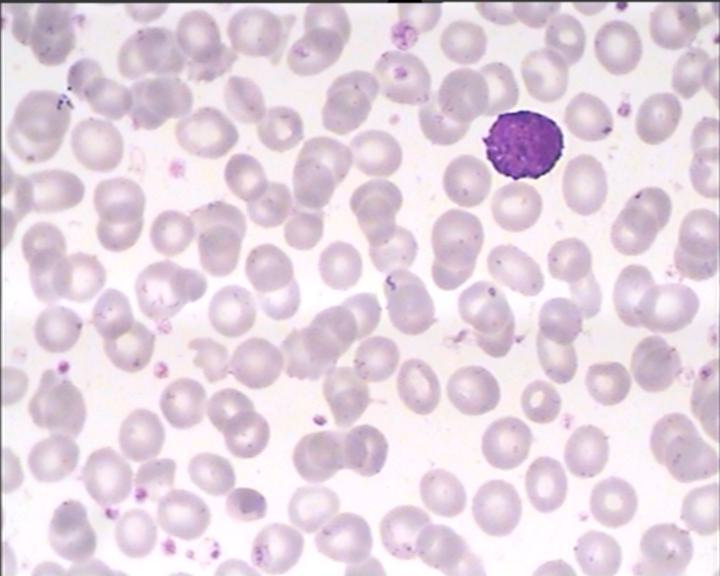baso: (478, 104, 564, 187)
